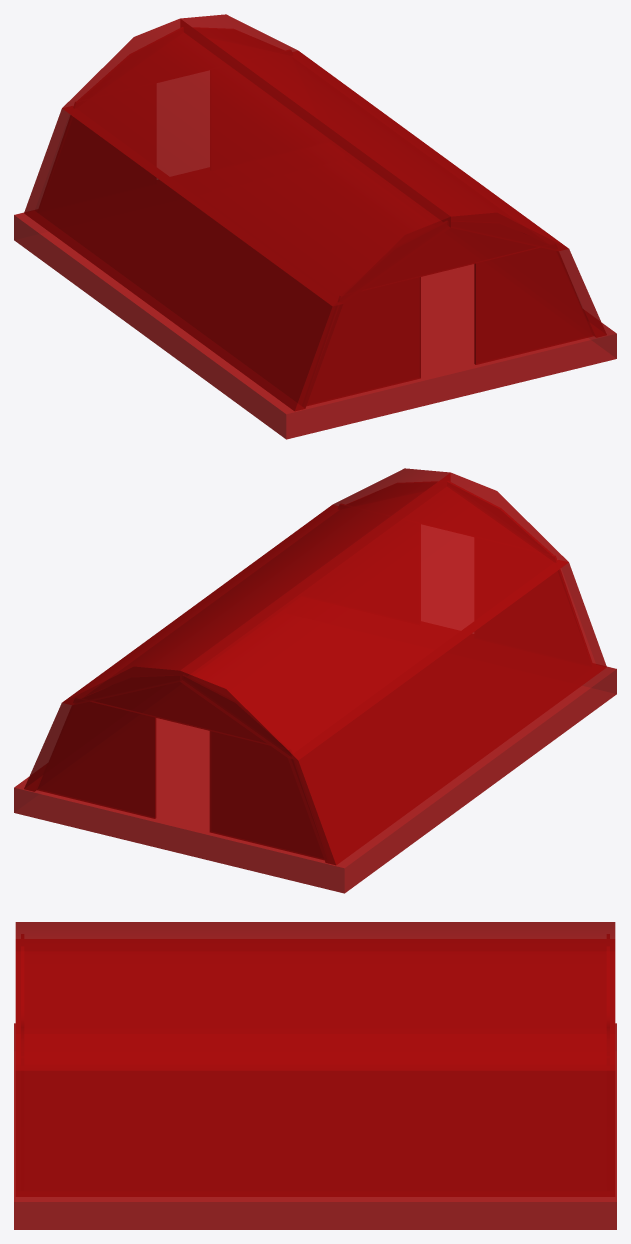
The model's file is SM_Bld_Tent_01_Collision.fbx.
3 views of the same model, one above another, from view 1: azimuth 30°, elevation 25°; view 2: azimuth 150°, elevation 25°; view 3: azimuth 270°, elevation 25° (orthographic). The views are drawn at different scales.
Parts seen in each view (by area): view 1: SM_Bld_Tent_01_Collision; view 2: SM_Bld_Tent_01_Collision; view 3: SM_Bld_Tent_01_Collision.
Boxes of the visible parts, x1=… form: SM_Bld_Tent_01_Collision: x1=14, y1=14, x2=616, y2=439; SM_Bld_Tent_01_Collision: x1=14, y1=468, x2=616, y2=893; SM_Bld_Tent_01_Collision: x1=14, y1=922, x2=616, y2=1229.
Bounding box in the file's own units: 768 × 404 × 1096.
